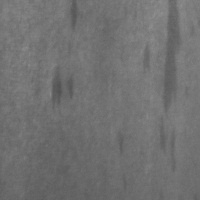inclusion: (160, 1, 184, 123), (49, 63, 77, 112), (157, 114, 179, 175), (65, 0, 84, 37), (138, 40, 154, 76), (113, 125, 130, 158)
